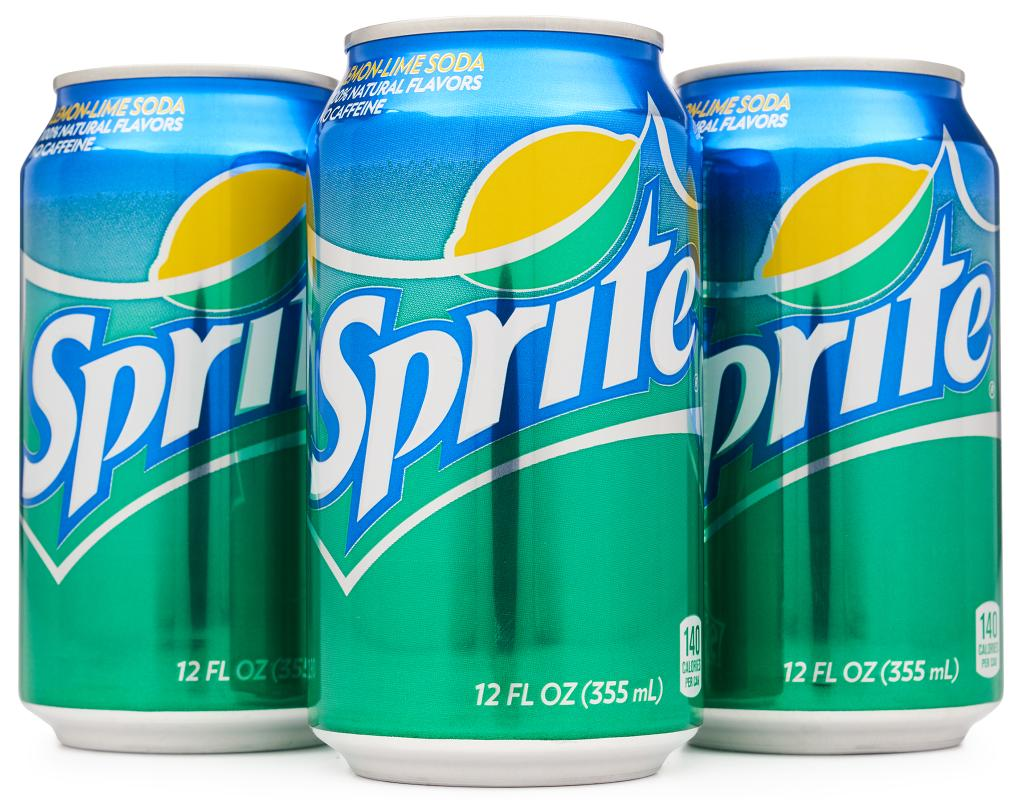Sprite: (320, 16, 699, 782), (704, 63, 992, 731), (16, 80, 303, 748)
